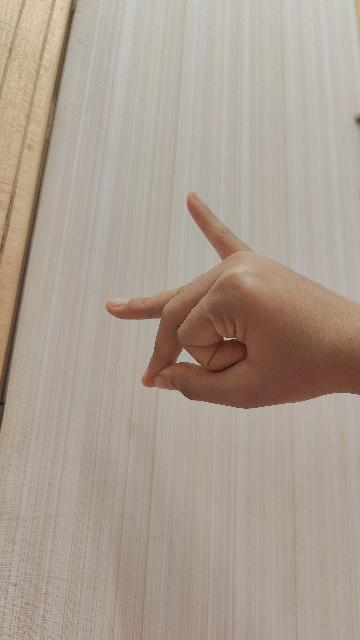bhramara: (106, 194, 360, 411)
